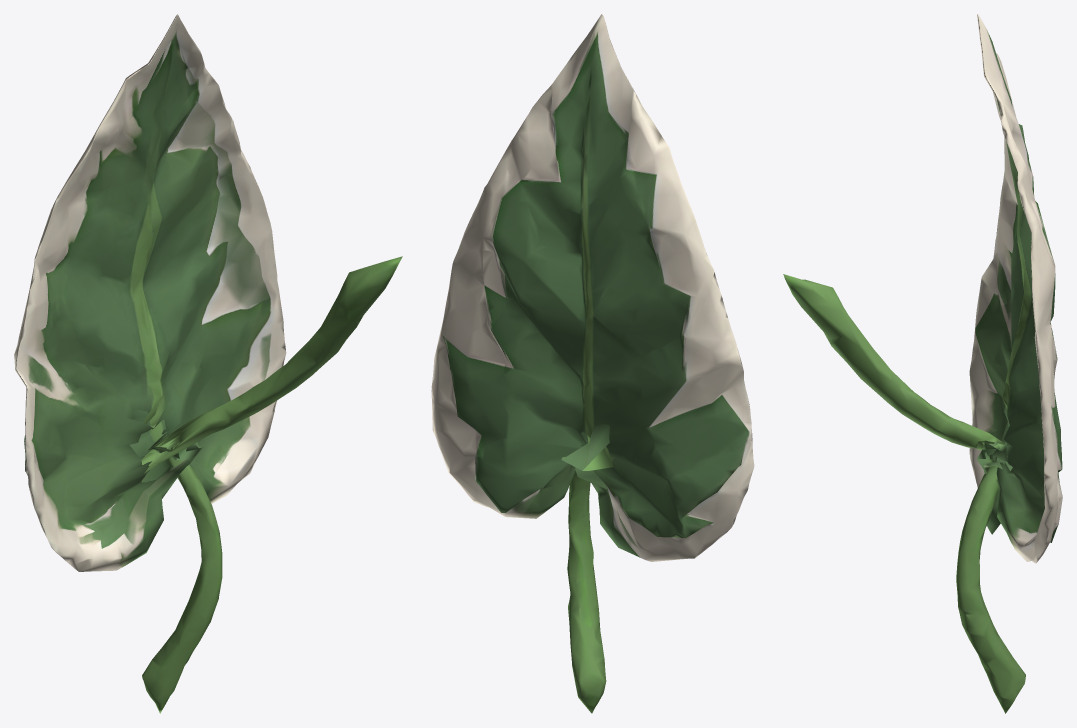
Rendered from sc_leaf_mature_njoy.glb.
The picture shows the model from 3 angles, left to right: view 1: azimuth 30°, elevation 25°; view 2: azimuth 150°, elevation 25°; view 3: azimuth 270°, elevation 25°; orthographic projection. The views are drawn at different scales.
Visible parts, largest first — view 1: tripo_node_39cb35bd-5822-44e8-893d-3d9ec26c3b4a; view 2: tripo_node_39cb35bd-5822-44e8-893d-3d9ec26c3b4a; view 3: tripo_node_39cb35bd-5822-44e8-893d-3d9ec26c3b4a.
Boxes of the visible parts, box(x1,y1,x2,y2) form: tripo_node_39cb35bd-5822-44e8-893d-3d9ec26c3b4a: box(14, 14, 402, 713); tripo_node_39cb35bd-5822-44e8-893d-3d9ec26c3b4a: box(431, 14, 754, 713); tripo_node_39cb35bd-5822-44e8-893d-3d9ec26c3b4a: box(783, 14, 1062, 713).
Bounding box in the file's own units: 0.6529 × 1.49 × 0.5392.
1 material, 1 textured.
